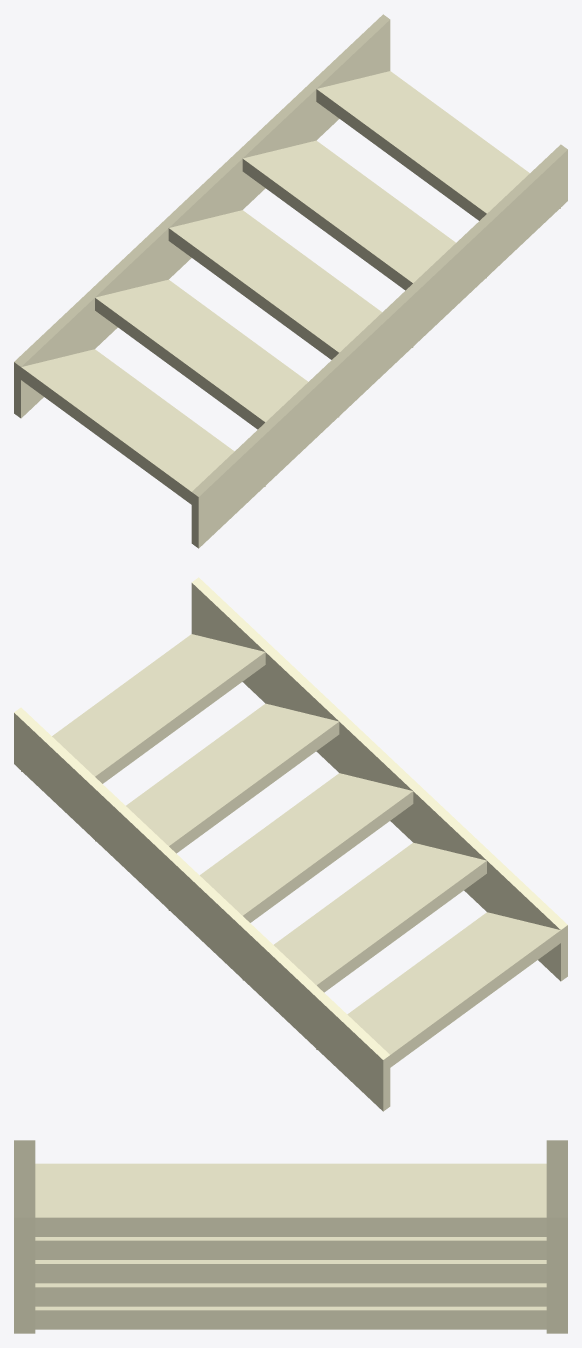
Rendered from Stairs_Hollow.glb.
The picture shows the model from 3 angles, top to bottom: view 1: azimuth 30°, elevation 25°; view 2: azimuth 150°, elevation 25°; view 3: azimuth 270°, elevation 25°; orthographic projection. The views are drawn at different scales.
Parts seen in each view (by area): view 1: Stairs Hollow; view 2: Stairs Hollow; view 3: Stairs Hollow.
Boxes of the visible parts, x1,y1,x2,y2 form: Stairs Hollow: (14, 14, 567, 548); Stairs Hollow: (14, 577, 567, 1111); Stairs Hollow: (14, 1140, 567, 1333).
Bounding box in the file's own units: 1.5 × 1.2 × 1.3.
